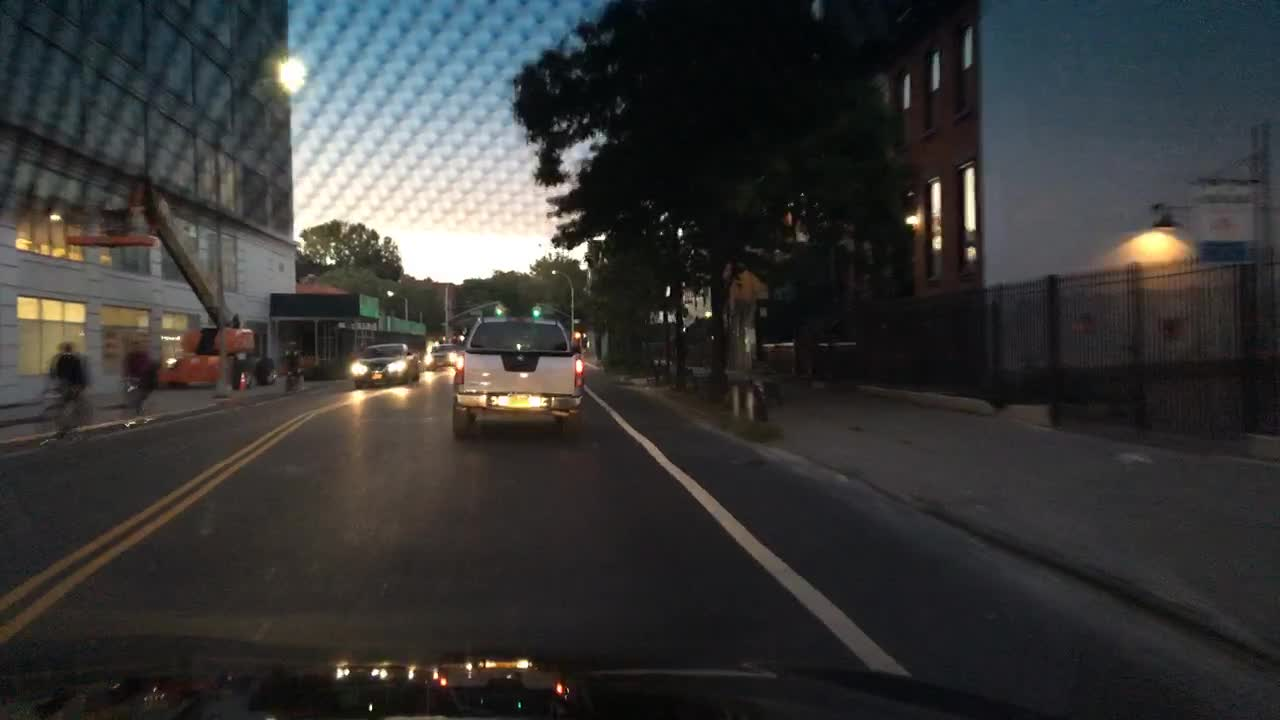bike: (35, 370, 96, 445), (118, 366, 161, 429), (276, 354, 304, 395)
car: (347, 341, 422, 390), (422, 341, 462, 371)
rider: (37, 337, 92, 440), (118, 336, 161, 415), (280, 336, 300, 379), (88, 420, 89, 432)
traffic light: (528, 302, 541, 317), (491, 304, 503, 317)
truck: (64, 174, 280, 390), (449, 320, 585, 440)
